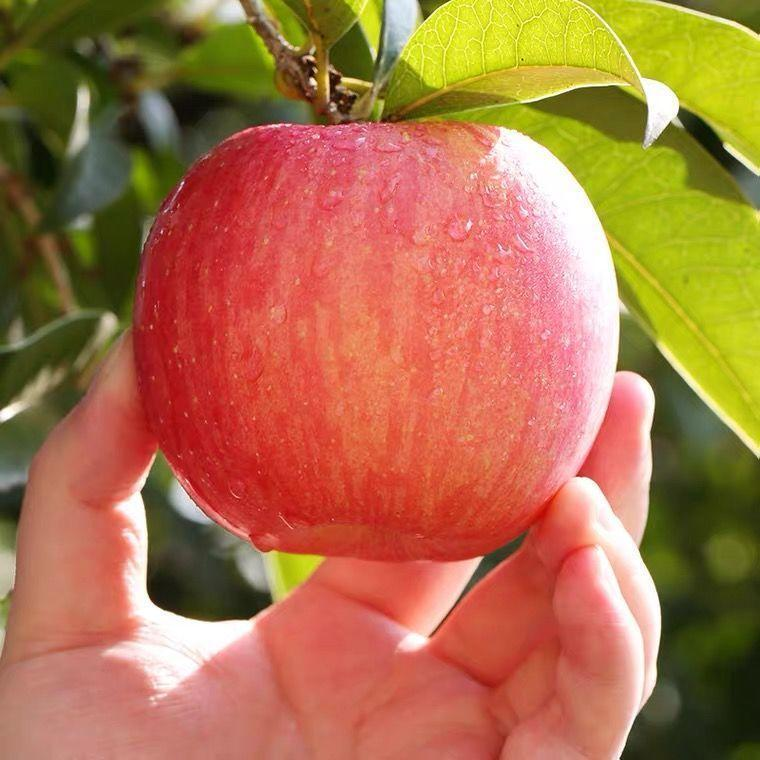apple: (128, 112, 622, 562)
